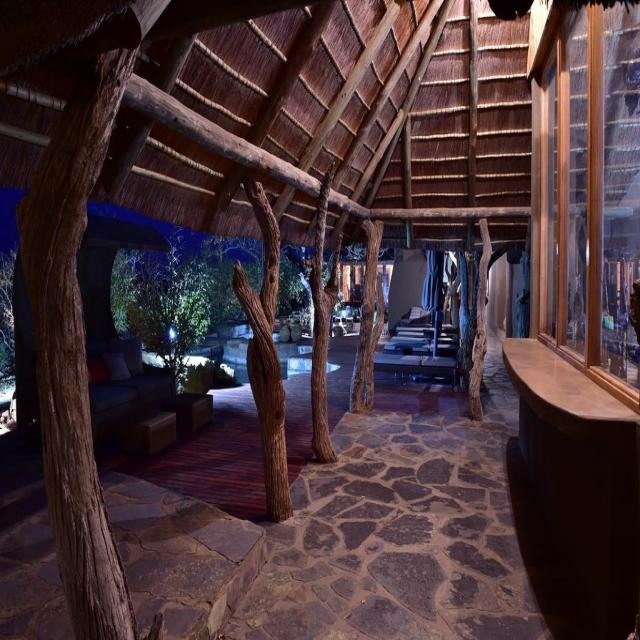Table: (493, 328, 616, 512)
